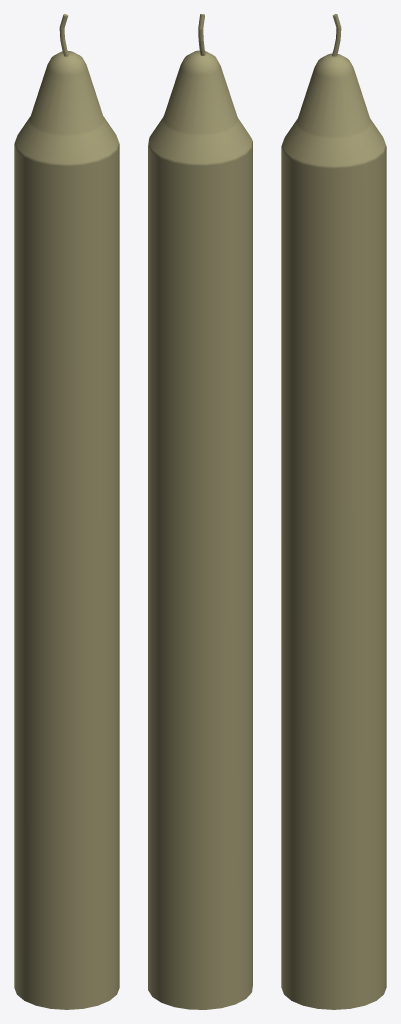
The model's file is candle_1.fbx.
The picture shows the model from 3 angles, left to right: view 1: azimuth 90°, elevation 25°; view 2: azimuth 150°, elevation 25°; view 3: azimuth 270°, elevation 25°; orthographic projection.
Parts seen in each view (by area): view 1: polySurface45; view 2: polySurface45; view 3: polySurface45.
Boxes of the visible parts, <box> form: polySurface45: <box>14,14,119,1009</box>; polySurface45: <box>148,14,252,1009</box>; polySurface45: <box>281,14,386,1009</box>.
Size of the model in its own units: 0.0919 by 0.9376 by 0.0919.
